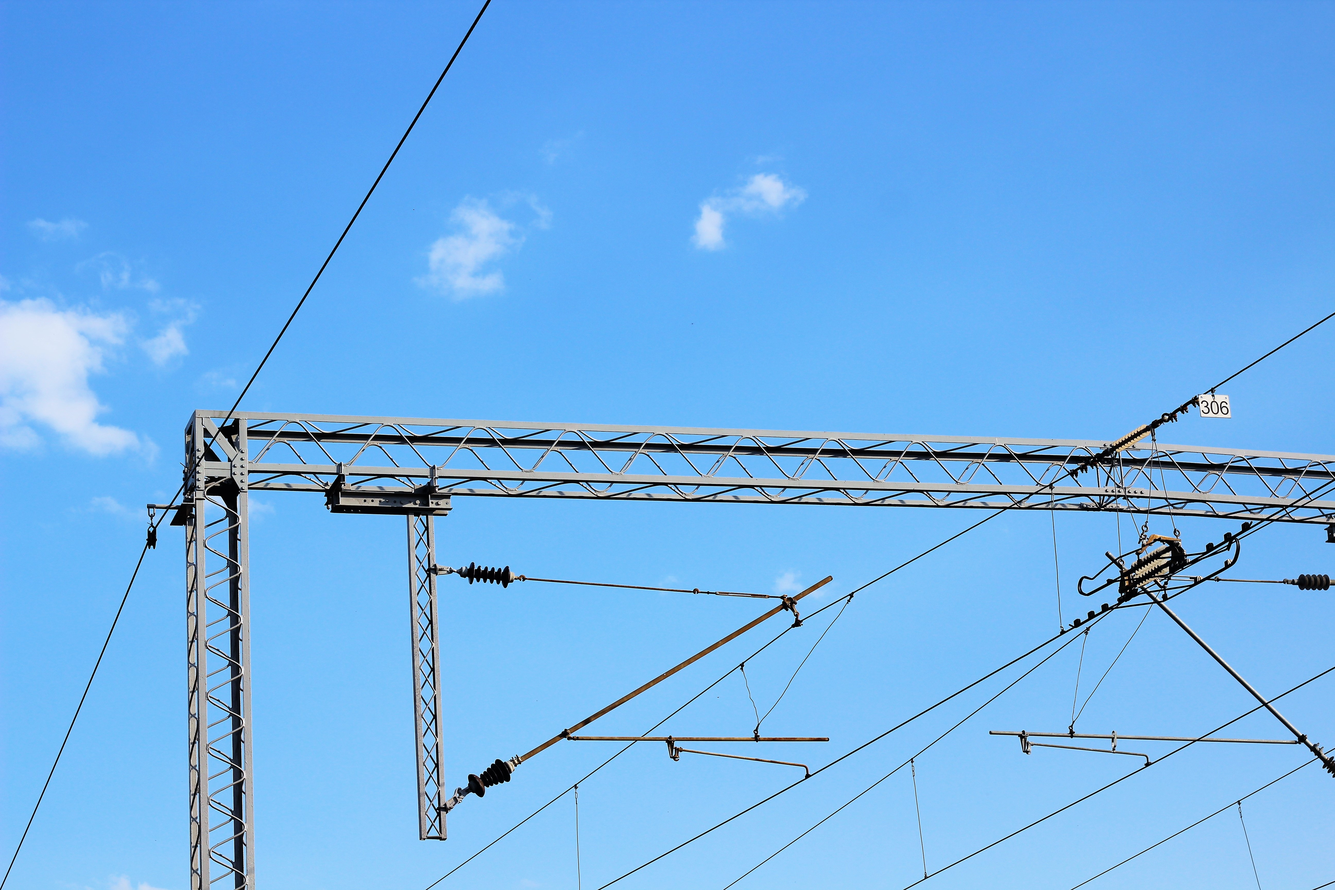insulator: (449, 557, 527, 587), (472, 743, 507, 799)
